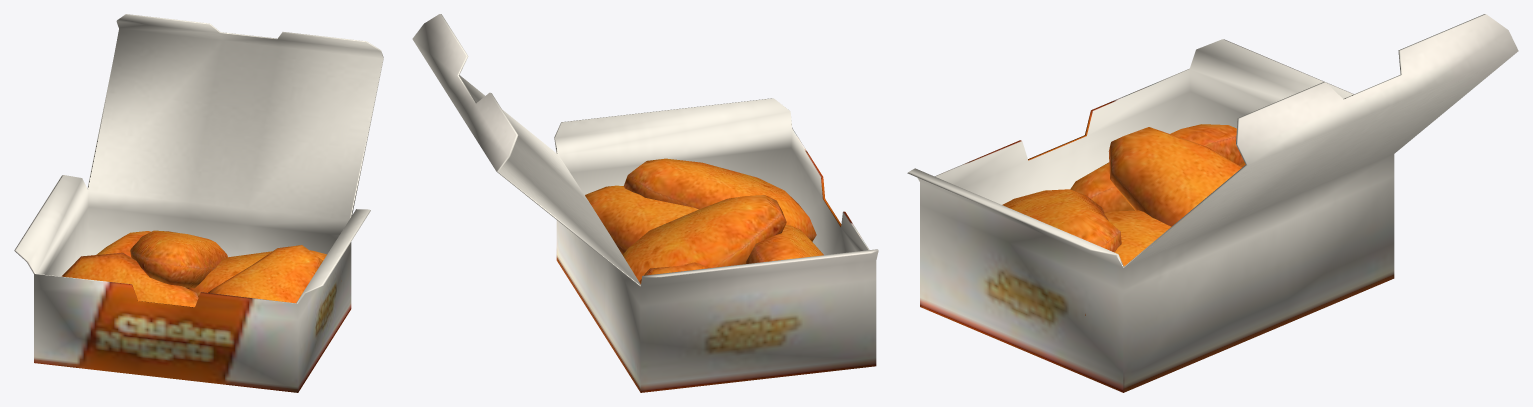
Rendered from ChickenNuggets.gltf.
The picture shows the model from 3 angles, left to right: view 1: azimuth 30°, elevation 25°; view 2: azimuth 150°, elevation 25°; view 3: azimuth 270°, elevation 25°; orthographic projection. The views are drawn at different scales.
Parts seen in each view (by area): view 1: node_FFHP_PRE_Chicken_nugget_box_open_256_-1656, node_FFHP_PRE_Chicken_nugget_256_-1652, node_FFHP_PRE_Chicken_nugget_256_-1654, node_FFHP_PRE_Chicken_nugget_256_-1650, node_FFHP_PRE_Chicken_nugget_256_-1648, node_FFHP_PRE_Chicken_nugget_256_-1646; view 2: node_FFHP_PRE_Chicken_nugget_box_open_256_-1656, node_FFHP_PRE_Chicken_nugget_256_-1652, node_FFHP_PRE_Chicken_nugget_256_-1654, node_FFHP_PRE_Chicken_nugget_256_-1648, node_FFHP_PRE_Chicken_nugget_256_-1650, node_FFHP_PRE_Chicken_nugget_256_-1646; view 3: node_FFHP_PRE_Chicken_nugget_box_open_256_-1656, node_FFHP_PRE_Chicken_nugget_256_-1652, node_FFHP_PRE_Chicken_nugget_256_-1654, node_FFHP_PRE_Chicken_nugget_256_-1650, node_FFHP_PRE_Chicken_nugget_256_-1648.
Boxes of the visible parts, box(x1,y1,x2,y2) form: node_FFHP_PRE_Chicken_nugget_box_open_256_-1656: box(14, 14, 383, 392); node_FFHP_PRE_Chicken_nugget_256_-1652: box(130, 230, 227, 288); node_FFHP_PRE_Chicken_nugget_256_-1654: box(208, 245, 322, 303); node_FFHP_PRE_Chicken_nugget_256_-1650: box(61, 252, 198, 307); node_FFHP_PRE_Chicken_nugget_256_-1648: box(185, 250, 326, 297); node_FFHP_PRE_Chicken_nugget_256_-1646: box(96, 231, 150, 257); node_FFHP_PRE_Chicken_nugget_box_open_256_-1656: box(412, 14, 878, 392); node_FFHP_PRE_Chicken_nugget_256_-1652: box(622, 195, 786, 281); node_FFHP_PRE_Chicken_nugget_256_-1654: box(623, 158, 816, 241); node_FFHP_PRE_Chicken_nugget_256_-1648: box(585, 185, 698, 254); node_FFHP_PRE_Chicken_nugget_256_-1650: box(746, 224, 823, 263); node_FFHP_PRE_Chicken_nugget_256_-1646: box(639, 262, 710, 284); node_FFHP_PRE_Chicken_nugget_box_open_256_-1656: box(907, 14, 1518, 392); node_FFHP_PRE_Chicken_nugget_256_-1652: box(1108, 127, 1241, 226); node_FFHP_PRE_Chicken_nugget_256_-1654: box(1002, 189, 1121, 252); node_FFHP_PRE_Chicken_nugget_256_-1650: box(1070, 124, 1244, 212); node_FFHP_PRE_Chicken_nugget_256_-1648: box(1085, 210, 1171, 315).
Bounding box in the file's own units: 0.4663 × 0.2636 × 0.4663.
2 materials, 2 textured.
